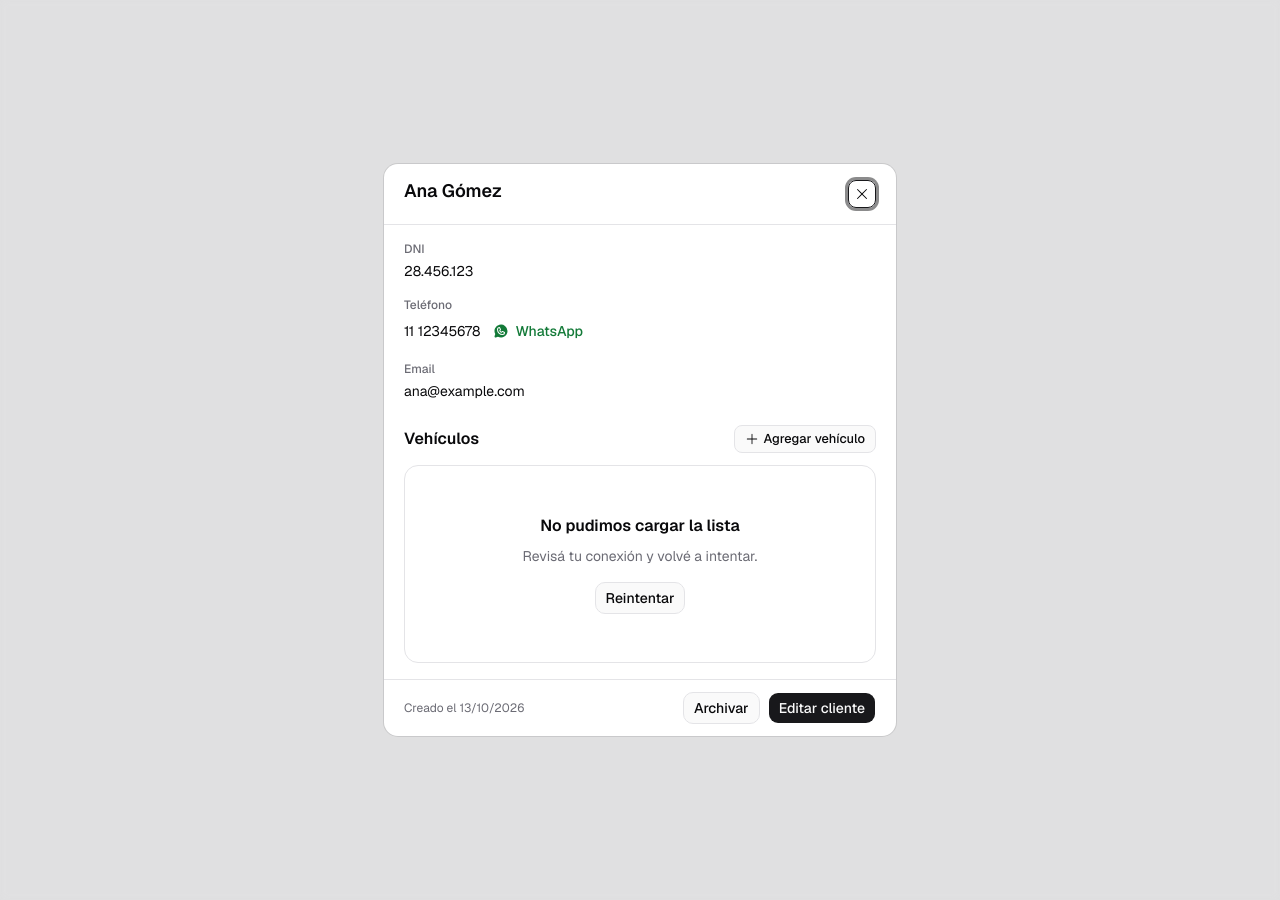
Test: ClientModal: vehicles › shows an error with Reintentar when the vehicles can't load
Click the button "Reintentar". click: x=640, y=598
box: [595, 582, 685, 614]
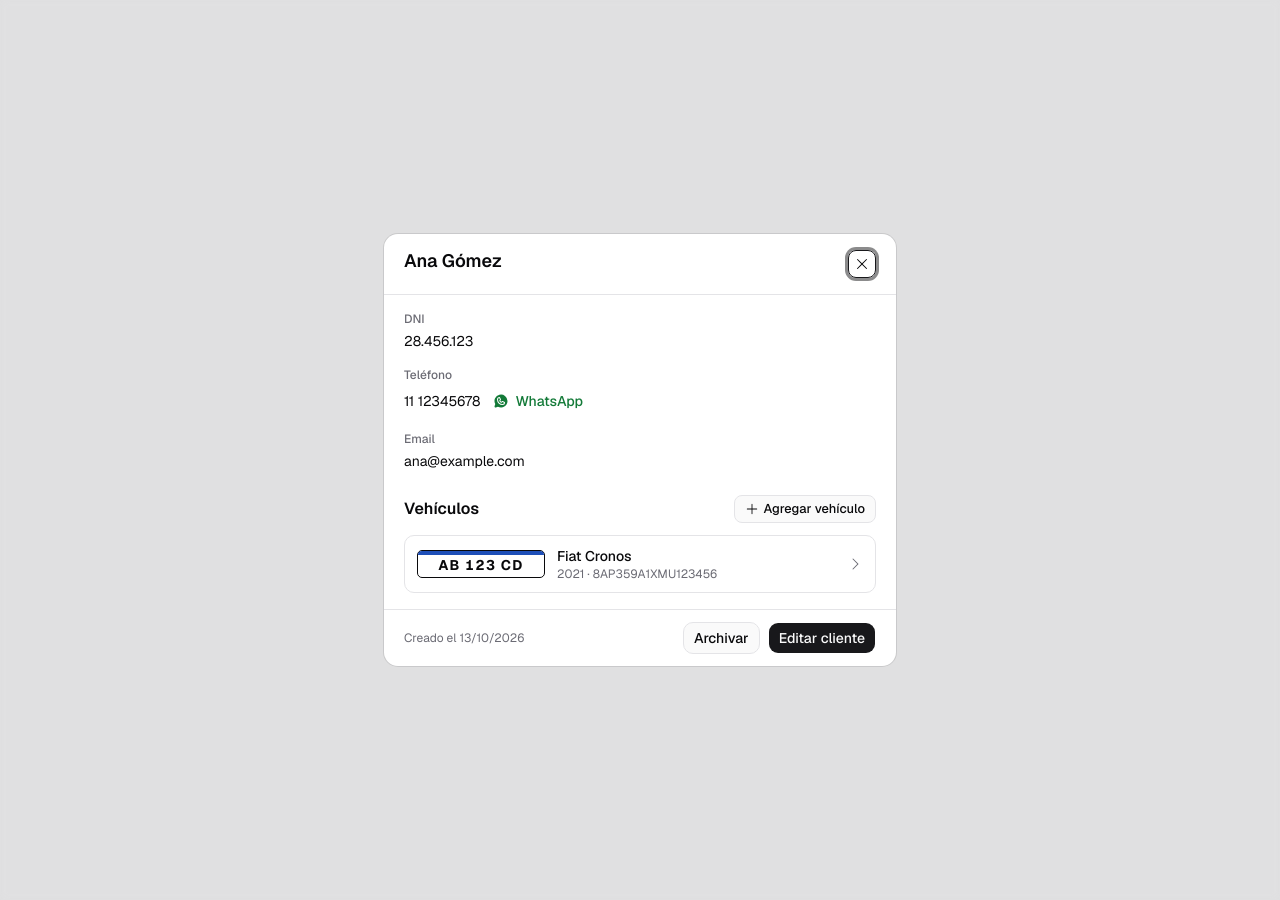
expect the text "AB 123 CD" is shown: met, box [438, 556, 524, 574]
